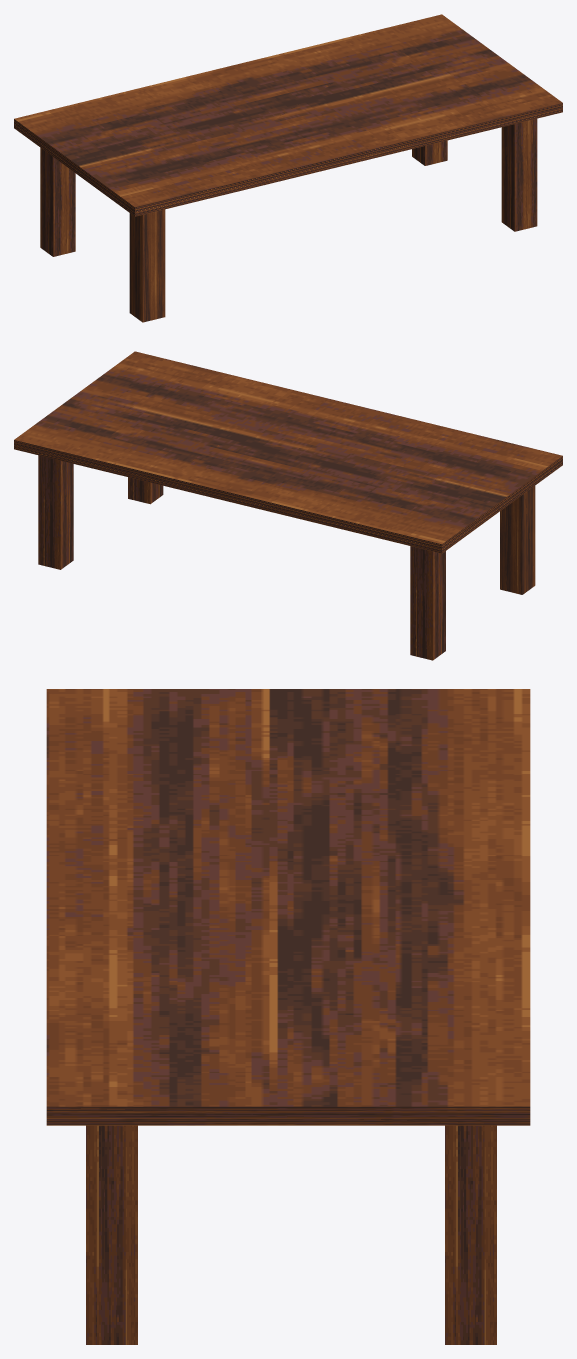
Rendered from Table_(3).fbx.
The picture shows the model from 3 angles, top to bottom: view 1: azimuth 30°, elevation 25°; view 2: azimuth 150°, elevation 25°; view 3: azimuth 270°, elevation 25°; orthographic projection. The views are drawn at different scales.
Parts seen in each view (by area): view 1: Cube, Cube.001, Cube.002, Cube.004, Cube.003; view 2: Cube, Cube.004, Cube.003, Cube.001, Cube.002; view 3: Cube, Cube.002, Cube.003.
Part boxes in pixels (box(x1,y1,x2,y2)): Cube: box(14, 14, 562, 216); Cube.001: box(129, 209, 165, 322); Cube.002: box(501, 118, 537, 231); Cube.004: box(40, 148, 75, 256); Cube.003: box(412, 140, 447, 165); Cube: box(14, 351, 562, 553); Cube.004: box(410, 546, 445, 660); Cube.003: box(38, 455, 73, 569); Cube.001: box(500, 486, 535, 594); Cube.002: box(128, 477, 163, 504); Cube: box(46, 689, 530, 1125); Cube.002: box(86, 1125, 137, 1344); Cube.003: box(445, 1125, 496, 1344).
Bounding box in the file's own units: 380 × 108 × 186.
Materials: 5 (5 with a texture image).
